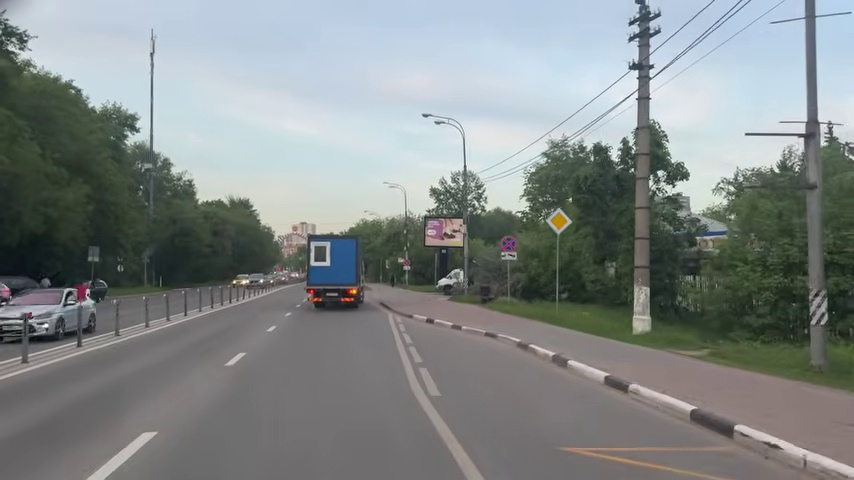apagada: (626, 10, 662, 45), (419, 111, 442, 128)
